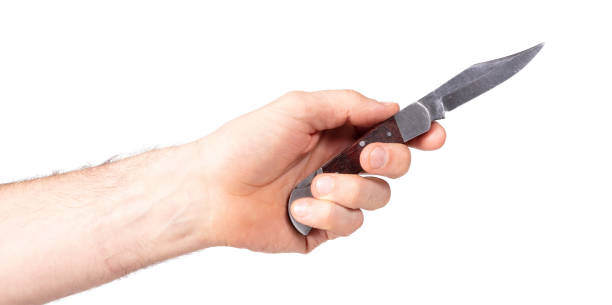knife: (286, 38, 548, 239)
